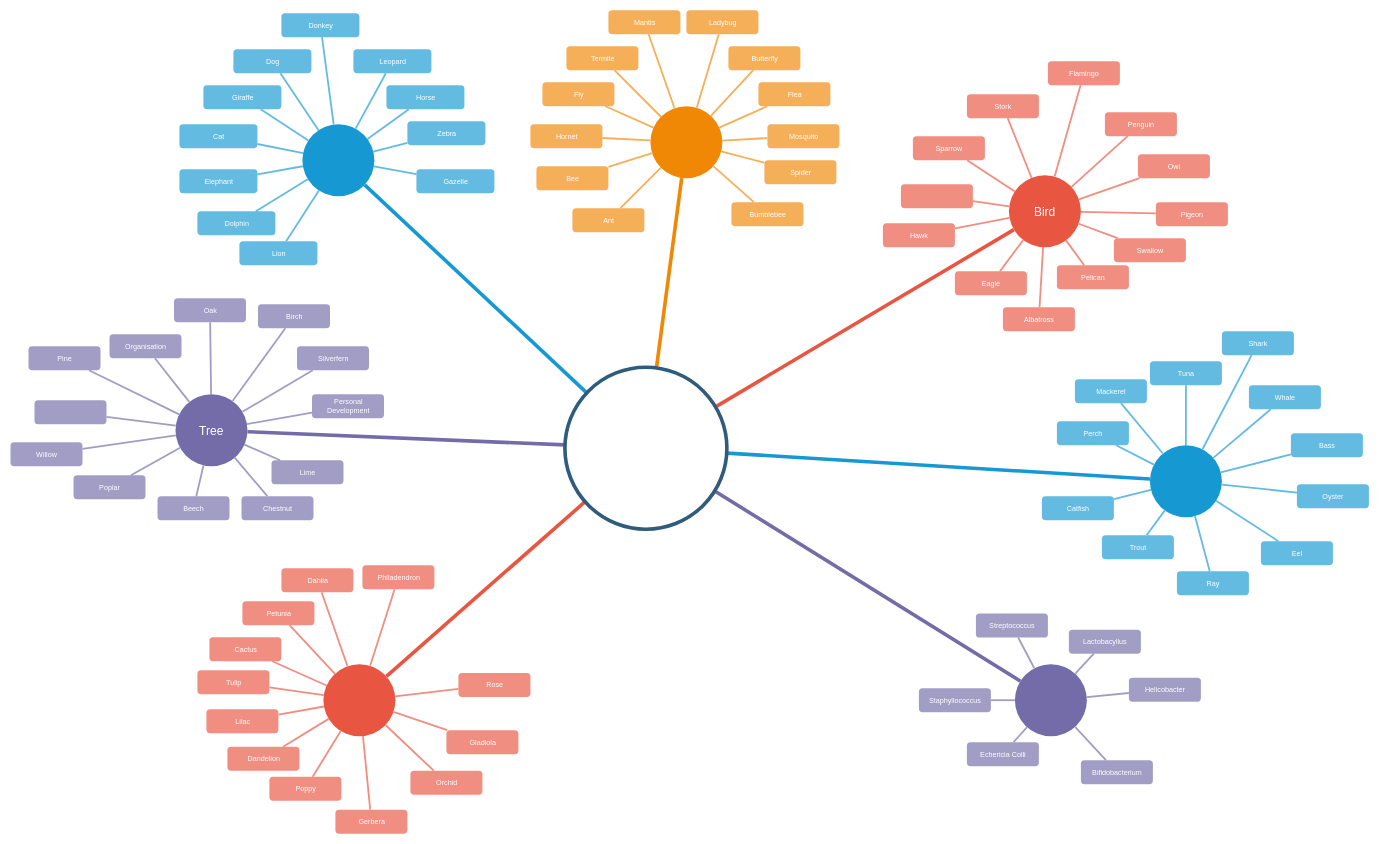
Image size: 1379x844. Some labels were removed from this diagram. The shapes that lost their labels are listed below. From the top down, each one's box as (x1, y1, x2, y2) in pixels, then its label:
(302, 124, 374, 196): Mammal
(650, 106, 722, 178): Insect
(901, 184, 973, 208): Falcon
(34, 400, 106, 424): Acacia
(563, 365, 728, 531): Three
(1150, 445, 1222, 517): Fish
(323, 664, 395, 736): Flower
(1015, 664, 1087, 736): Bacteria
